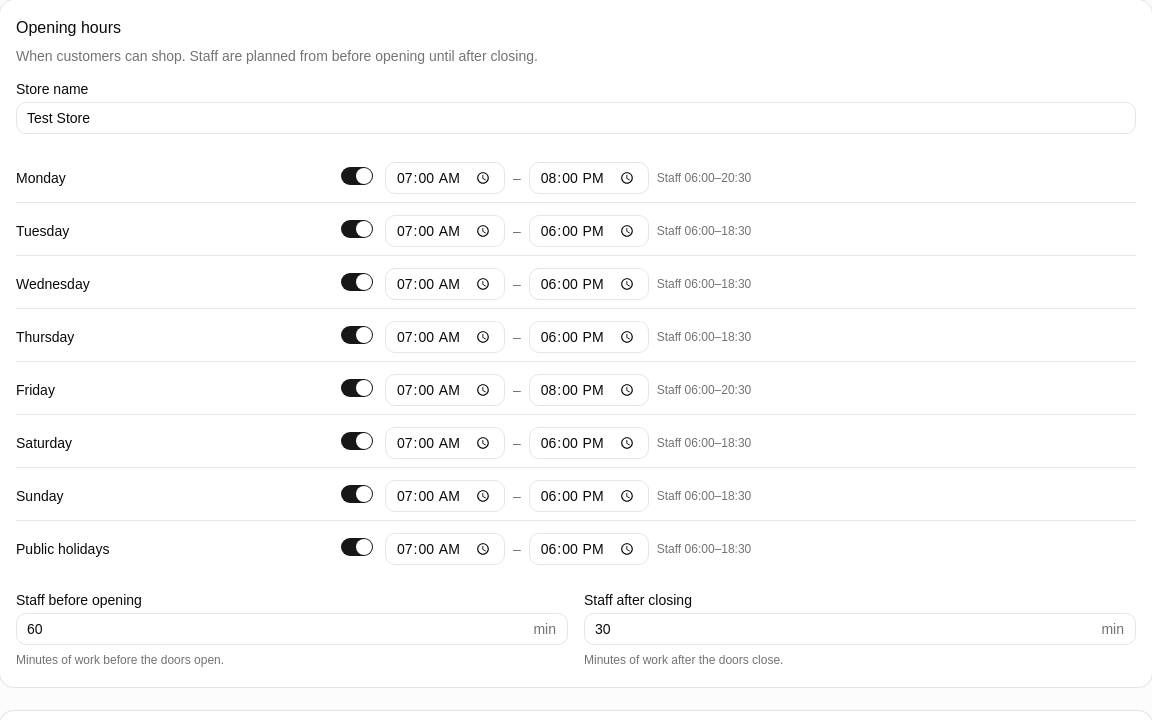
Test case: StoreScreen › edits opening hours and flags an invalid range
Replace the text in the time field named "Tuesday: closes" with "19:00" at [589, 231], box [529,215,649,247]
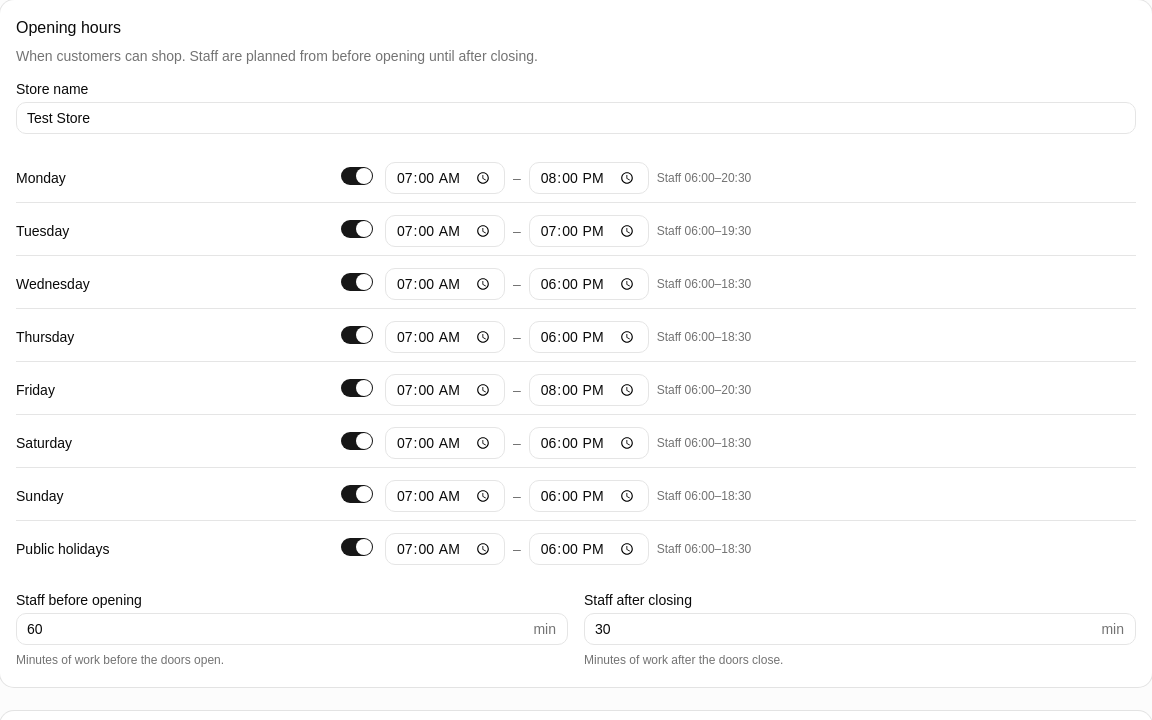
Replace the text in the time field named "Tuesday: closes" with "06:00" at [589, 231], box [529,215,649,247]
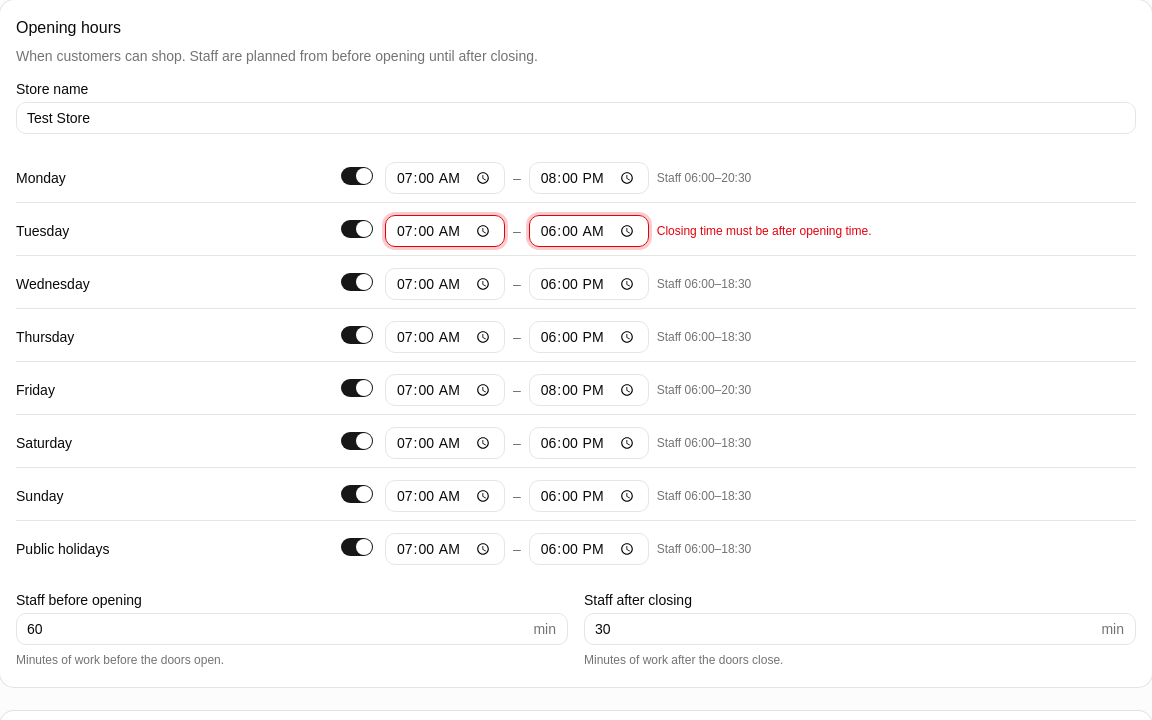
Result: the text "Closing time must be after opening time." is shown at [657,223,872,239]
